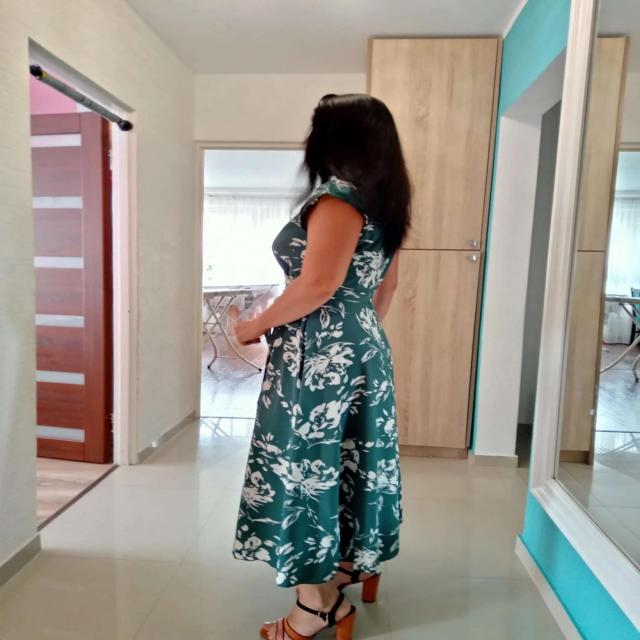clothes: (212, 177, 454, 595)
